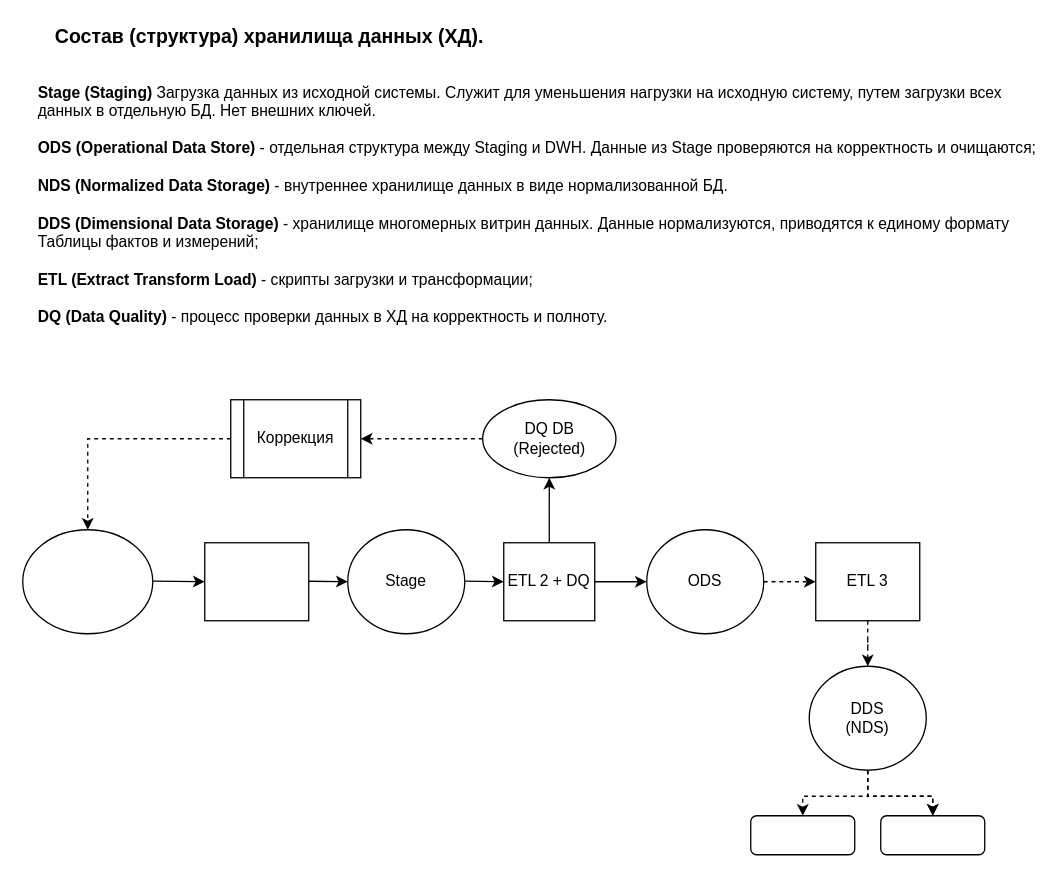
This 1060x877 diagram has some shape labels left out. Here are the shapes that lost their labels. From the top down, the box of each, then its label:
(21, 528, 153, 634): Исходная система
(203, 541, 309, 621): ETL 1
(749, 814, 855, 855): Дашборды
(879, 814, 985, 855): Отчеты
